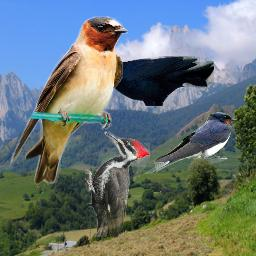Crow: (81, 56, 214, 106)
Swallow: (10, 16, 128, 185), (144, 112, 237, 177)
Woodpecker: (85, 130, 150, 237)
